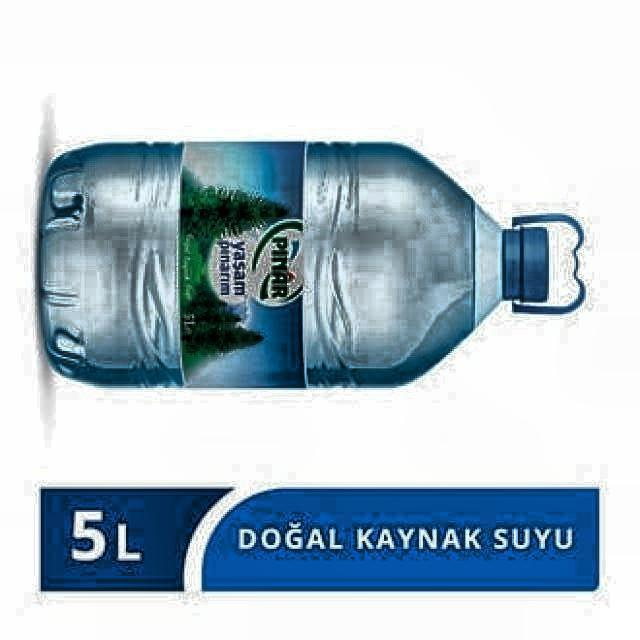plastic: (39, 142, 585, 387)
